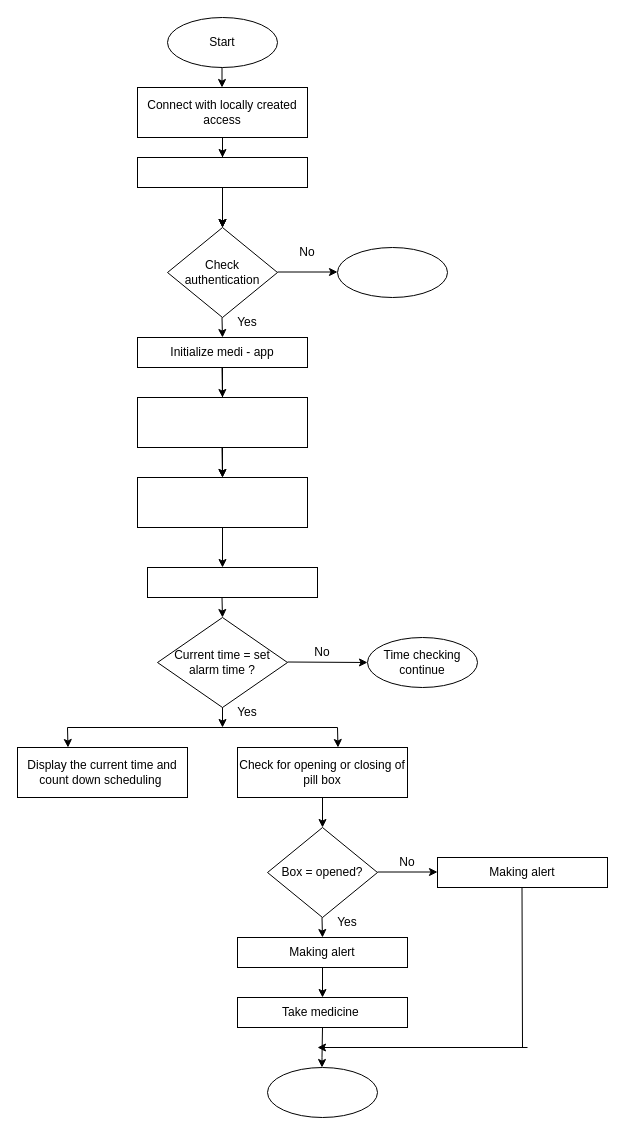
Some shapes in this 625 by 1135 pixel diagram are drawn without their labels. The shapes that lost their labels are listed below. From the top down, each one's centre as x and y in pixels, then its label:
the point at 222,172: Input Password
the point at 392,272: Stop
the point at 222,422: Rescheduling medicine time
the point at 222,502: Scheduling data and transmission to ESP32
the point at 232,582: Data reception via ESP32
the point at 322,1092: END
